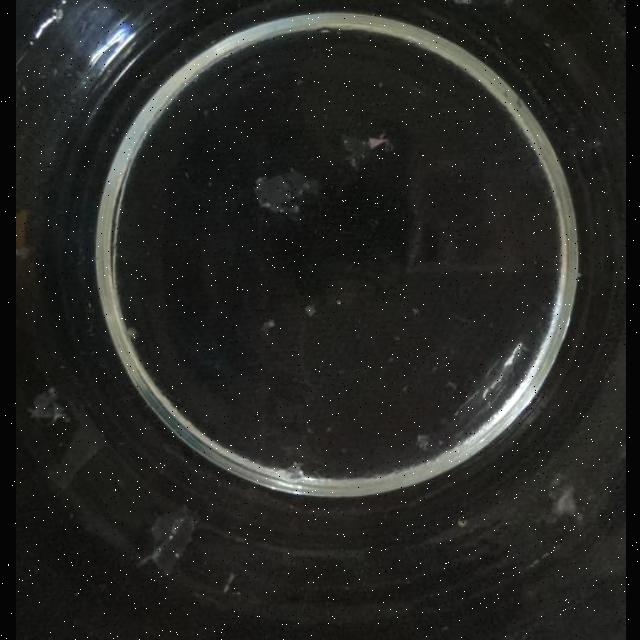Fibre: (145, 506, 199, 574), (251, 167, 319, 220), (340, 132, 390, 170), (27, 386, 68, 424), (280, 461, 306, 479), (414, 434, 432, 452), (221, 572, 235, 594), (123, 326, 137, 342), (260, 318, 274, 332), (304, 303, 316, 317)
microbeads: (544, 473, 582, 523), (368, 132, 390, 150), (455, 518, 467, 528)
